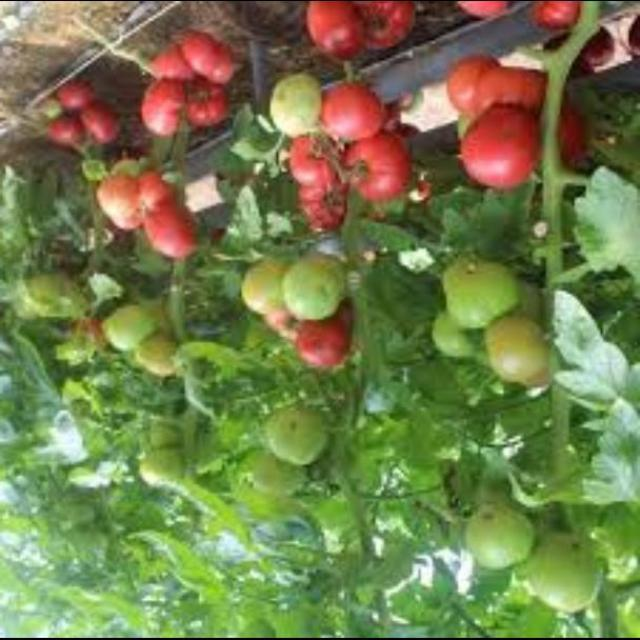Tomato: (247, 75, 410, 224), (418, 248, 566, 412), (454, 494, 604, 630), (439, 50, 578, 196), (234, 246, 355, 376), (80, 149, 198, 276), (124, 27, 240, 150), (281, 2, 420, 74), (30, 66, 128, 166), (234, 394, 318, 509), (99, 292, 188, 392), (122, 406, 190, 494), (422, 2, 578, 36)
